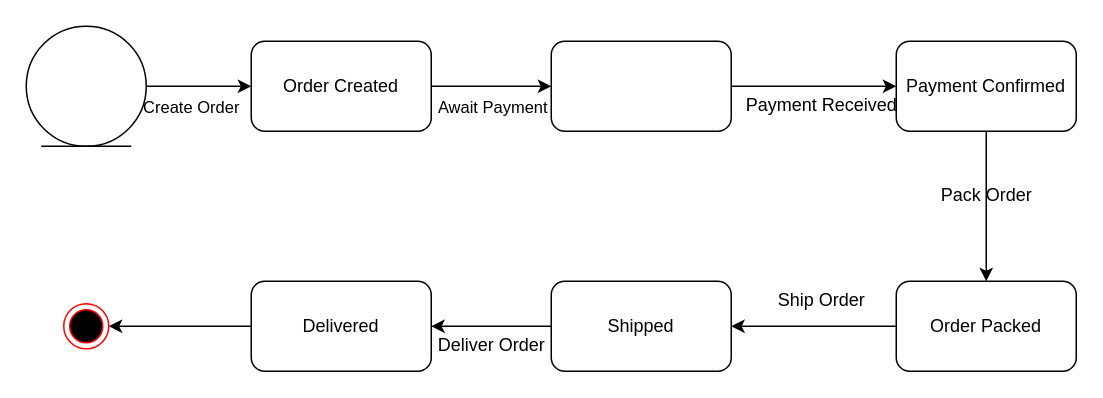
This 1103x398 diagram has some shape labels left out. Each missing label, with the centre of its shape:
"Payment Pending" belongs at (640,85).
"Start" belongs at (85,85).
